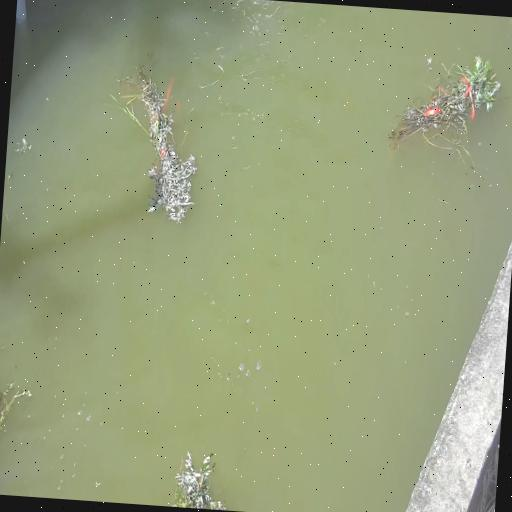twig: (102, 54, 205, 224), (385, 48, 503, 166), (167, 442, 234, 510), (0, 370, 33, 456), (116, 54, 158, 104), (14, 137, 32, 160)
